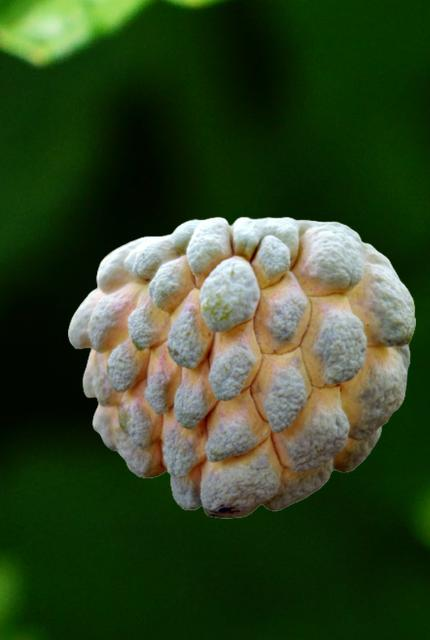atis: (68, 216, 414, 517)
